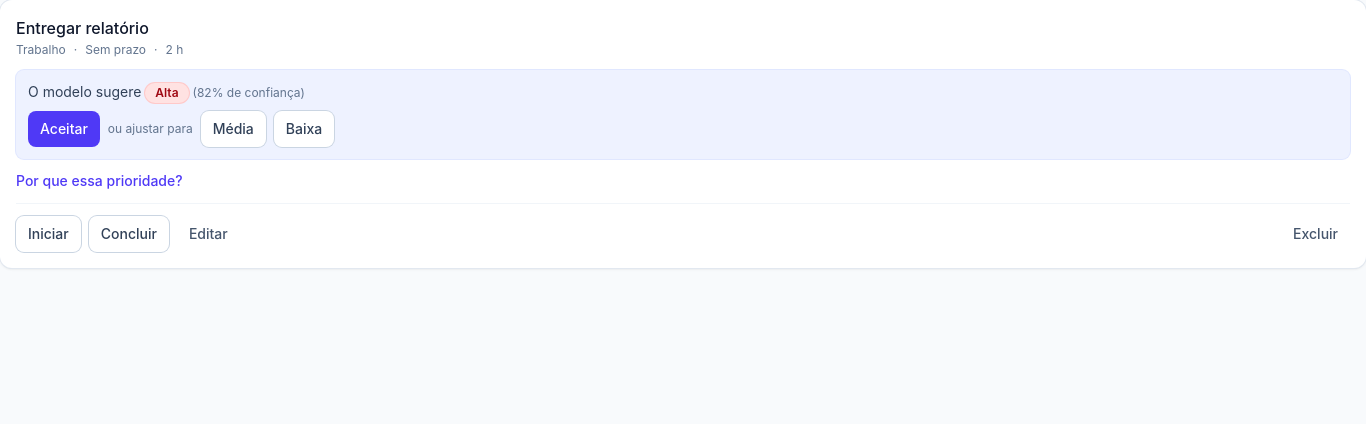
it: CartaoTarefa › explica a sugestão com os fatores que mais pesaram
Click the button "Por que essa prioridade?": (99, 181) [16,171,183,191]
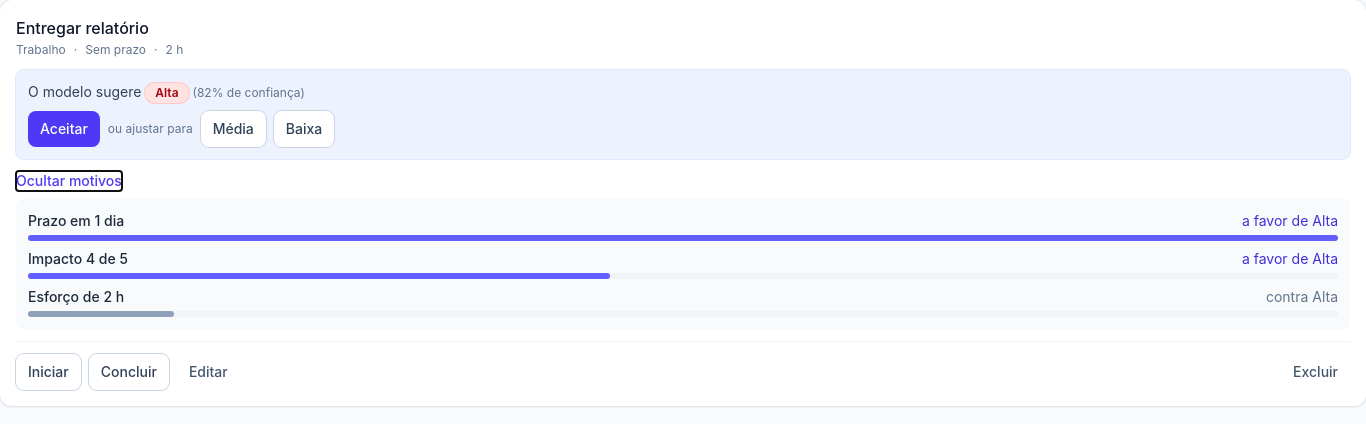
Result: the number of list items is 3 at [28,211,1338,241]; [28,249,1338,279]; [28,287,1338,317]
Result: the list item "Prazo em 1 dia a favor de Alta" is shown at [28,211,1338,241]
Result: the list item "Esforço de 2 h contra Alta" is shown at [28,287,1338,317]
